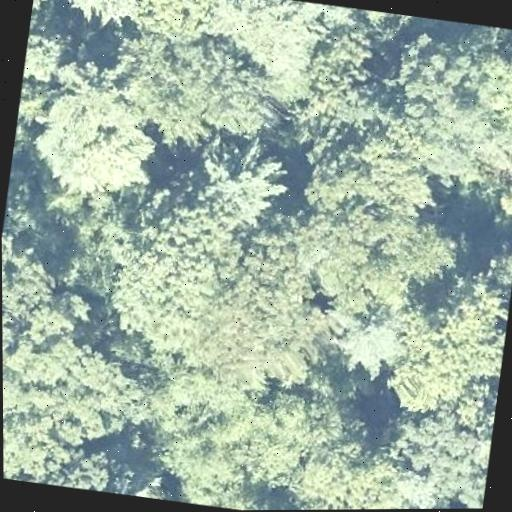tree-top: (106, 20, 278, 159), (193, 234, 328, 399), (2, 325, 156, 451), (392, 27, 512, 186), (25, 78, 169, 209), (219, 366, 352, 502), (296, 195, 438, 317), (287, 18, 415, 140), (107, 226, 225, 358), (126, 361, 236, 486), (306, 128, 444, 222), (385, 397, 494, 509), (182, 126, 294, 232), (308, 425, 417, 510), (216, 0, 321, 87), (329, 301, 418, 388), (377, 206, 465, 293), (433, 262, 512, 354), (385, 343, 475, 423), (2, 229, 66, 324), (131, 0, 252, 50), (3, 405, 69, 485), (22, 18, 75, 92), (189, 475, 291, 511), (54, 432, 112, 493), (53, 0, 151, 31), (334, 6, 424, 36), (115, 470, 190, 504), (2, 301, 18, 393), (492, 225, 512, 297), (481, 25, 512, 47), (30, 0, 58, 24)
